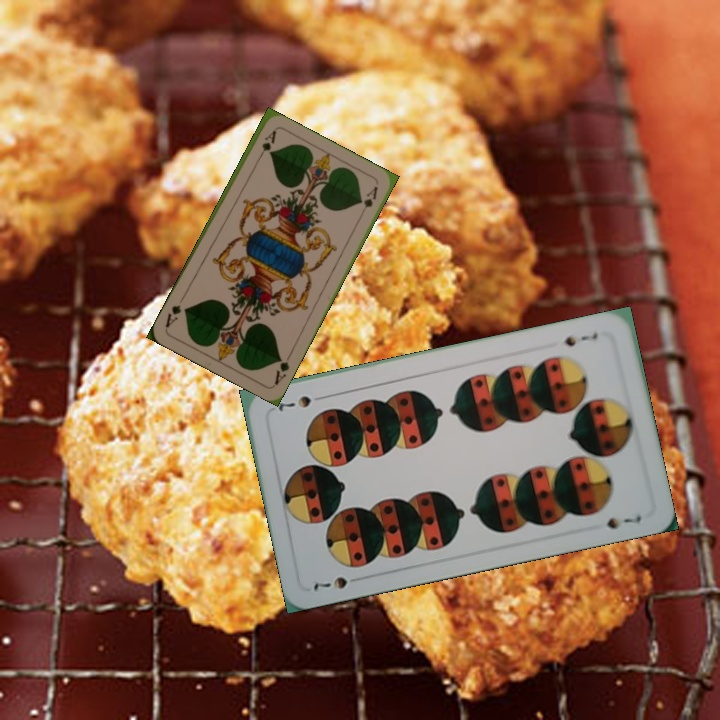GA: (252, 127, 279, 164), (270, 349, 294, 387)
S7: (309, 572, 366, 593), (561, 328, 600, 349)
